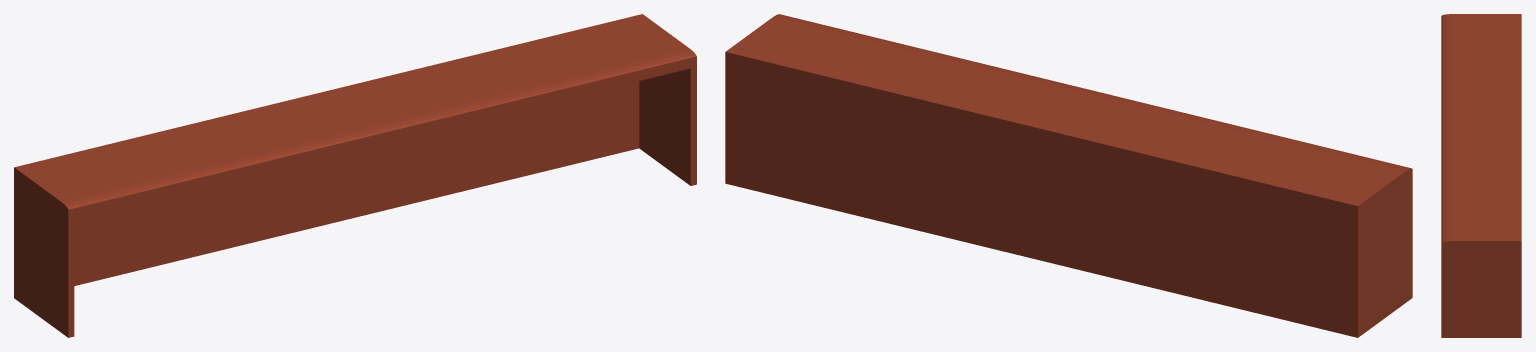
The model's file is .fbx_Arbeitsplatte.fbx.
3 views of the same model, side by side, from view 1: azimuth 30°, elevation 25°; view 2: azimuth 150°, elevation 25°; view 3: azimuth 270°, elevation 25° (orthographic). The views are drawn at different scales.
Visible parts, largest first — view 1: Arbeitsplatte; view 2: Arbeitsplatte; view 3: Arbeitsplatte.
Boxes of the visible parts, x1,y1,x2,y2 form: Arbeitsplatte: (14,14,696,337); Arbeitsplatte: (725,14,1412,337); Arbeitsplatte: (1441,14,1521,337).
Size of the model in its own units: 4.5 by 0.8954 by 0.6728.
